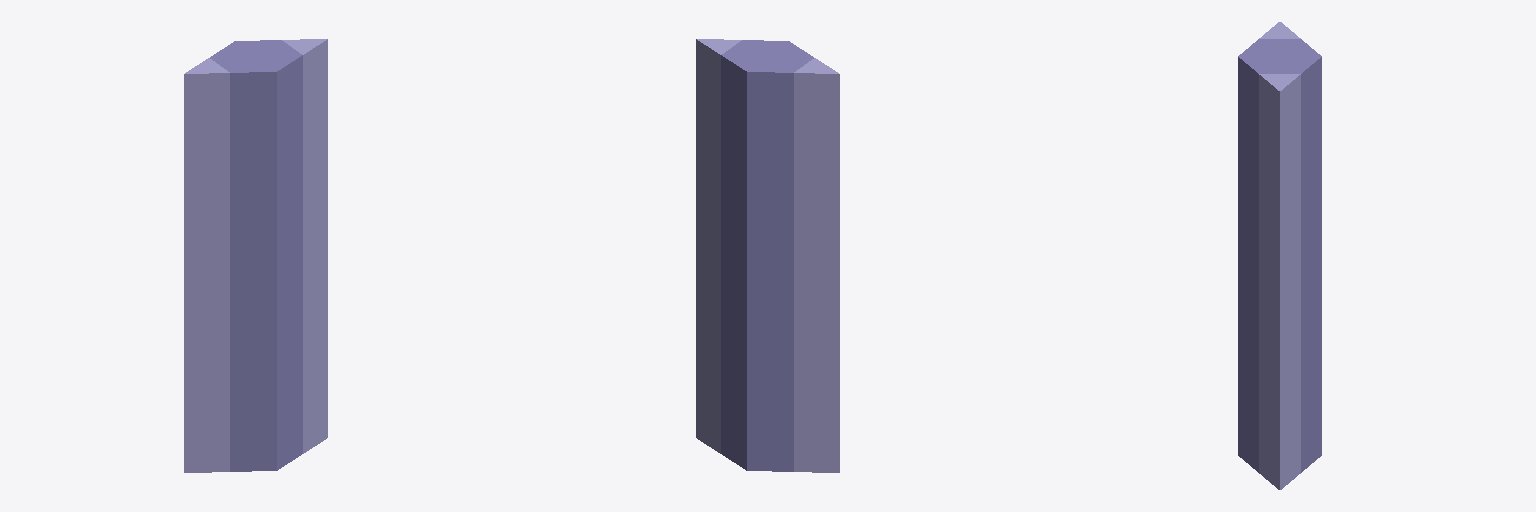
The model's file is sword_seg.obj.
3 renders of one model, left to right at view 1: azimuth 30°, elevation 25°; view 2: azimuth 150°, elevation 25°; view 3: azimuth 270°, elevation 25°, orthographic.
Visible parts, largest first — view 1: mergedBlocks; view 2: mergedBlocks; view 3: mergedBlocks.
Part boxes in pixels (x1,y1,x2,y2): mergedBlocks: (184, 39, 327, 472); mergedBlocks: (696, 39, 839, 472); mergedBlocks: (1238, 22, 1321, 489).
Bounding box in the file's own units: 0.0038 × 0.01 × 0.0019.